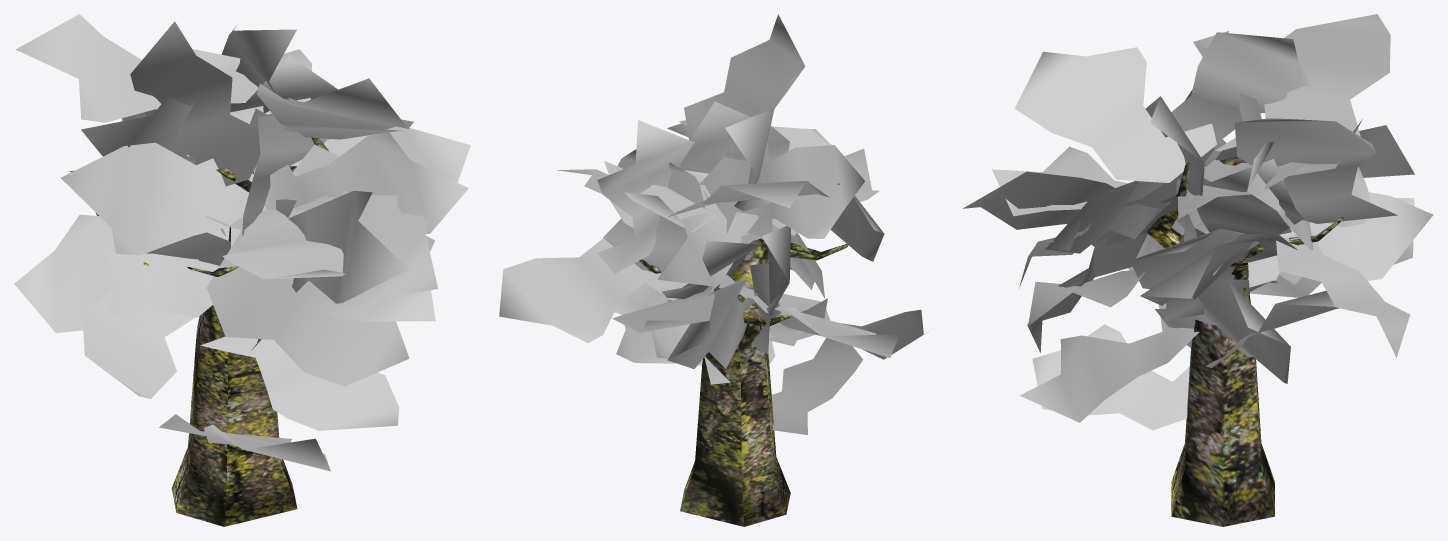
File: tree.fbx
3 views of the same model, side by side, from view 1: azimuth 30°, elevation 25°; view 2: azimuth 150°, elevation 25°; view 3: azimuth 270°, elevation 25° (orthographic). The views are drawn at different scales.
Parts seen in each view (by area): view 1: tree.009; view 2: tree.009; view 3: tree.009.
Boxes of the visible parts, left/top/right/bottom form: tree.009: left=14, top=14, right=470, bottom=526; tree.009: left=499, top=14, right=925, bottom=526; tree.009: left=963, top=14, right=1433, bottom=526.
Bounding box in the file's own units: 2835 × 3048 × 2781.
